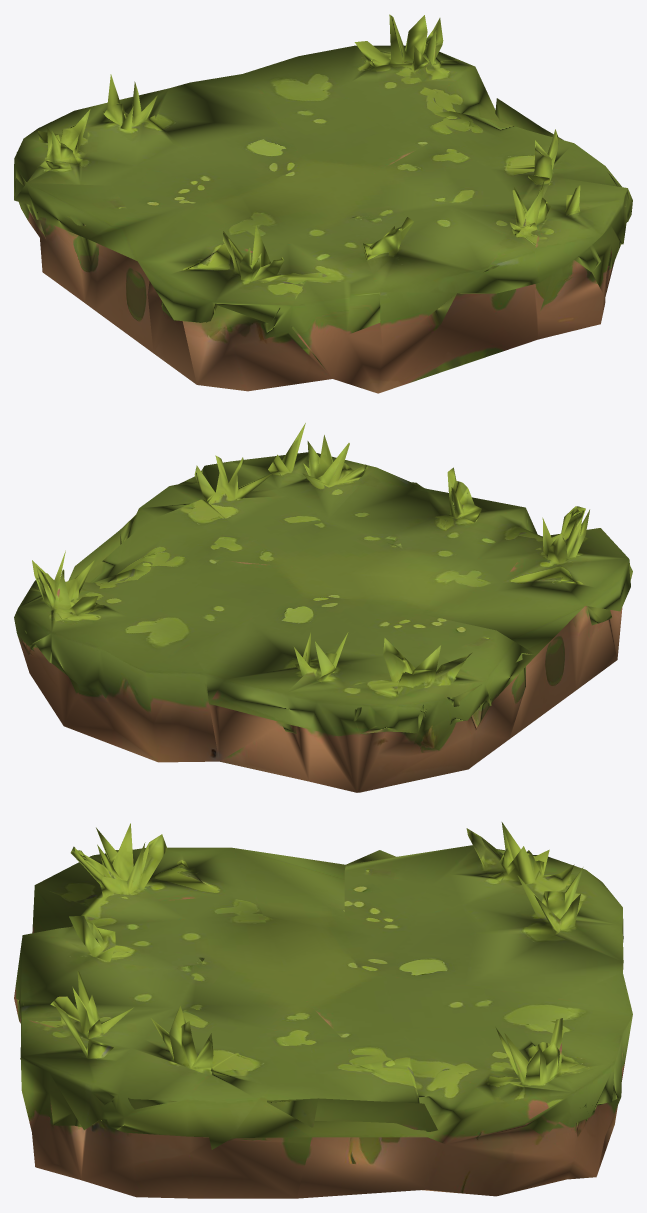
File: grass_platform.glb
3 renders of one model, top to bottom at view 1: azimuth 30°, elevation 25°; view 2: azimuth 150°, elevation 25°; view 3: azimuth 270°, elevation 25°, orthographic. The views are drawn at different scales.
Visible parts, largest first — view 1: tripo_node_078e9c39-d3a1-428d-8162-43bb509f4e19; view 2: tripo_node_078e9c39-d3a1-428d-8162-43bb509f4e19; view 3: tripo_node_078e9c39-d3a1-428d-8162-43bb509f4e19.
Boxes of the visible parts, box(x1,y1,x2,y2) form: tripo_node_078e9c39-d3a1-428d-8162-43bb509f4e19: box(14, 14, 632, 393); tripo_node_078e9c39-d3a1-428d-8162-43bb509f4e19: box(14, 423, 632, 792); tripo_node_078e9c39-d3a1-428d-8162-43bb509f4e19: box(14, 822, 632, 1198).
Bounding box in the file's own units: 0.9779 × 0.3452 × 0.9925.
Materials: 1 (1 with a texture image).
